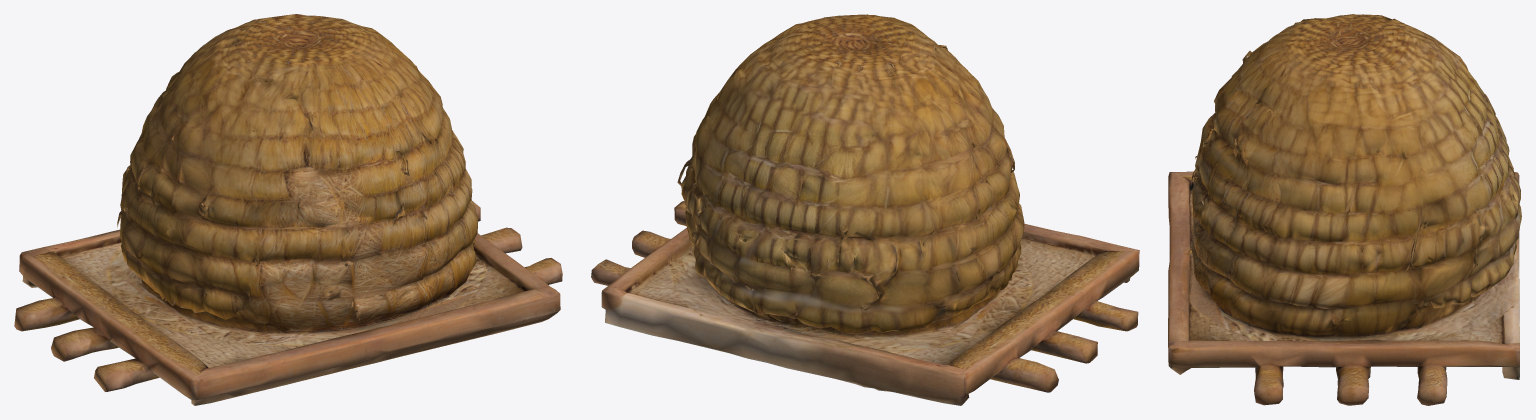
File: a186_saman_kovan.glb
3 views of the same model, side by side, from view 1: azimuth 30°, elevation 25°; view 2: azimuth 150°, elevation 25°; view 3: azimuth 270°, elevation 25° (orthographic).
Size of the model in its own units: 1.97 by 1.09 by 1.32.
Materials: 1 (1 with a texture image).
